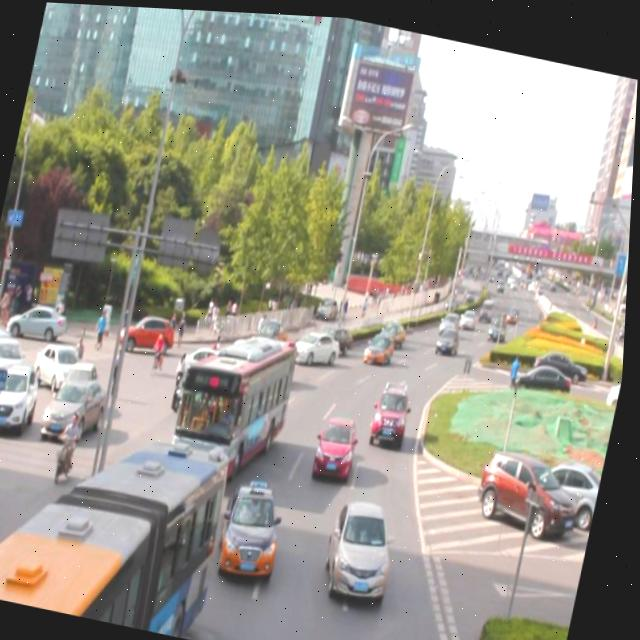car: (324, 491, 406, 601), (219, 474, 295, 582), (317, 407, 365, 478), (178, 340, 241, 394), (371, 375, 418, 447), (253, 334, 300, 395), (173, 357, 220, 417), (224, 355, 274, 407), (296, 323, 345, 368), (221, 333, 262, 384), (318, 318, 358, 352), (365, 324, 399, 362), (377, 313, 410, 345), (435, 317, 465, 351)
van: (0, 395, 239, 638), (171, 318, 303, 477)
